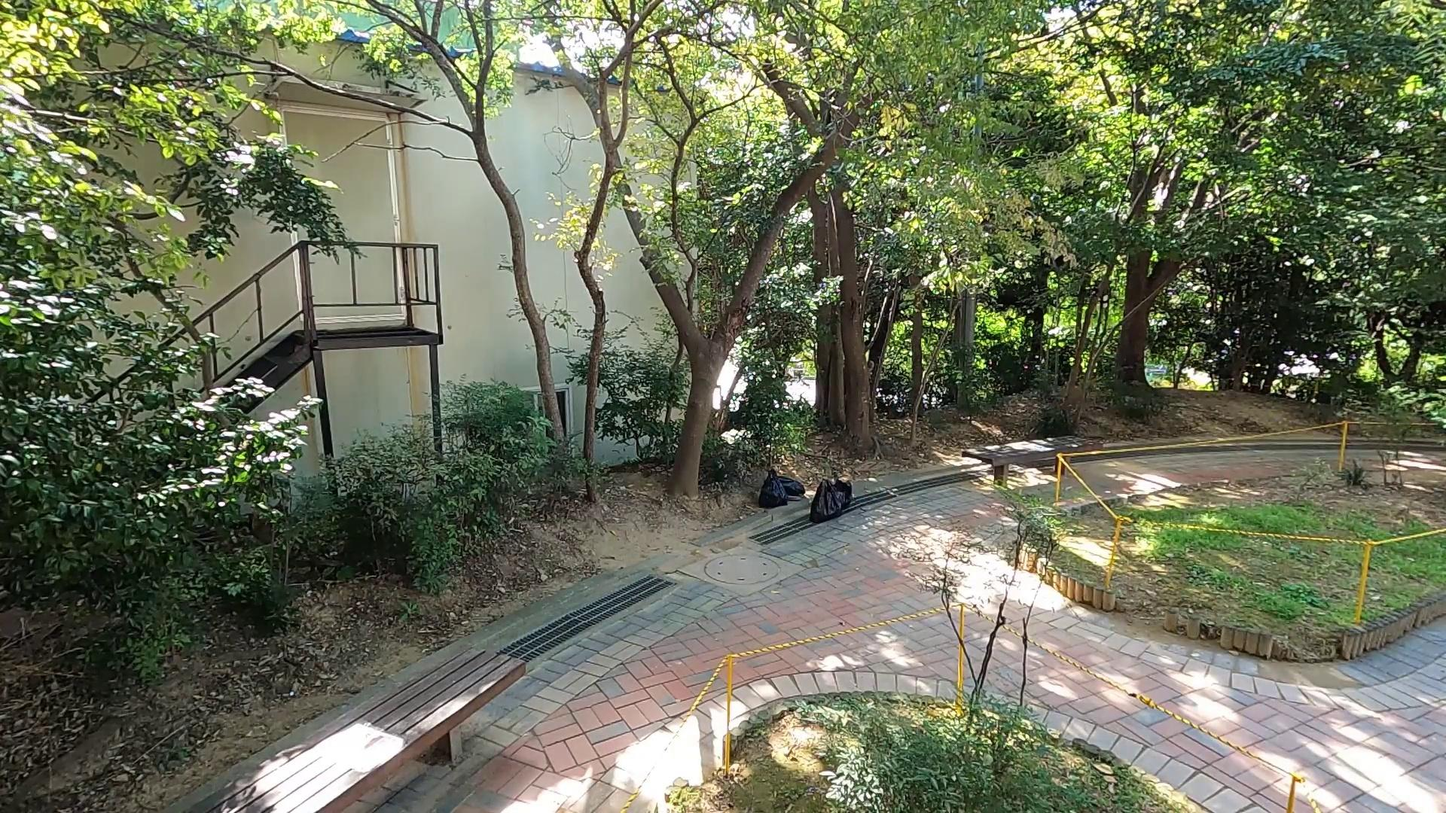trash: (757, 470, 806, 511), (811, 478, 843, 522)
